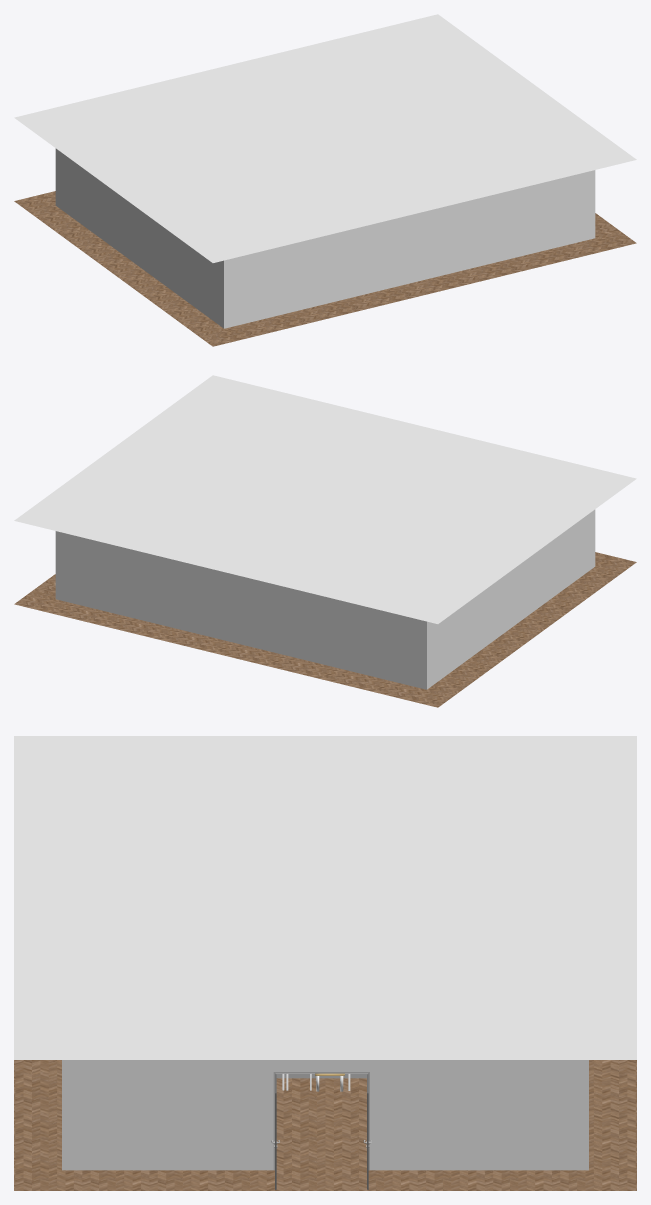
The model's file is hospital.glb.
The picture shows the model from 3 angles, top to bottom: view 1: azimuth 30°, elevation 25°; view 2: azimuth 150°, elevation 25°; view 3: azimuth 270°, elevation 25°; orthographic projection. The views are drawn at different scales.
Parts seen in each view (by area): view 1: Ceiling, Walls, Floor, WallsTop; view 2: Ceiling, Walls, Floor, WallsTop; view 3: Ceiling, Walls, Floor, WallsTop.
Boxes of the visible parts, x1,y1,x2,y2 form: Ceiling: [14, 14, 636, 262]; Walls: [55, 148, 595, 328]; Floor: [14, 191, 636, 346]; WallsTop: [57, 32, 594, 245]; Ceiling: [14, 375, 636, 623]; Walls: [55, 509, 595, 689]; Floor: [14, 552, 636, 707]; WallsTop: [62, 393, 593, 606]; Ceiling: [14, 736, 636, 1059]; Walls: [62, 1060, 588, 1170]; Floor: [14, 1060, 636, 1190]; WallsTop: [62, 756, 588, 1039].
Bounding box in the file's own units: 16 × 3.01 × 13.
Materials: 90 (1 with a texture image).
